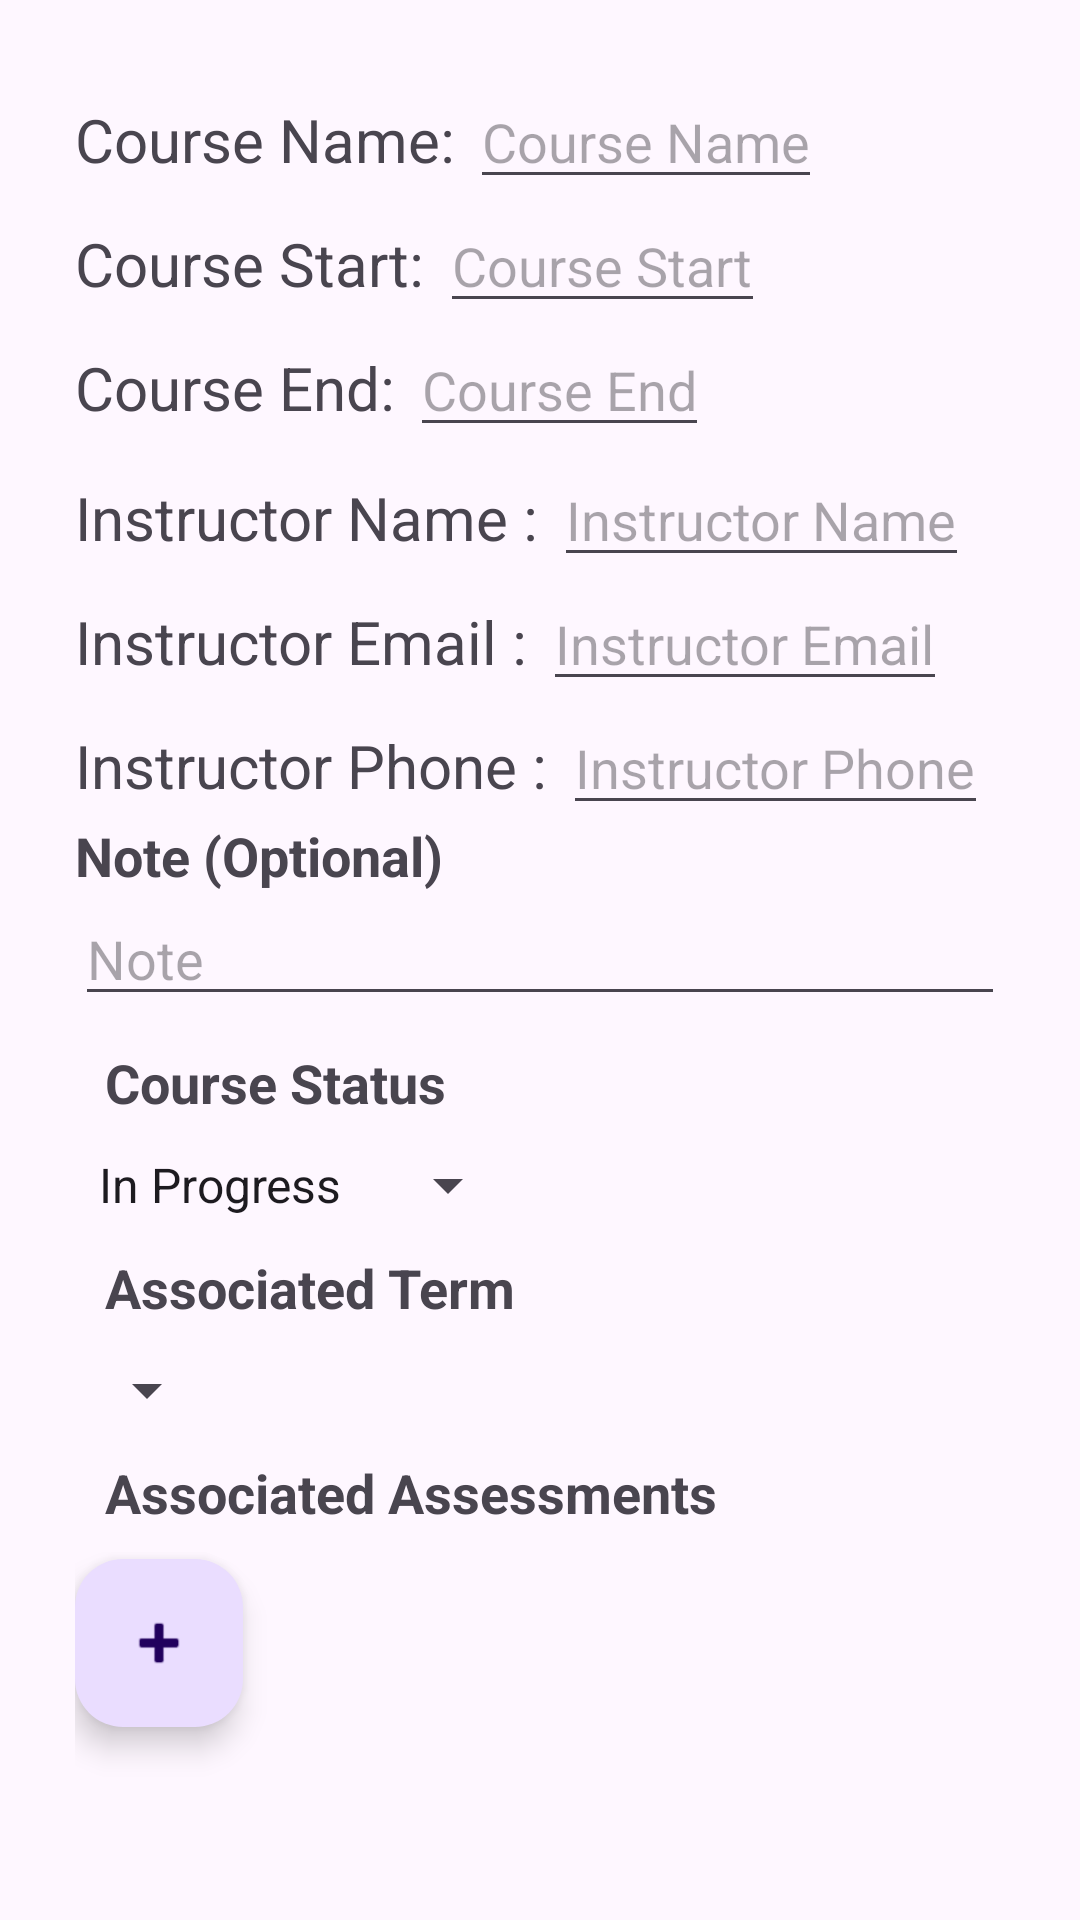

Icon click points for this 1080w x 1920h phone screenshot, format point (x, y):
add: point (159, 1643)
